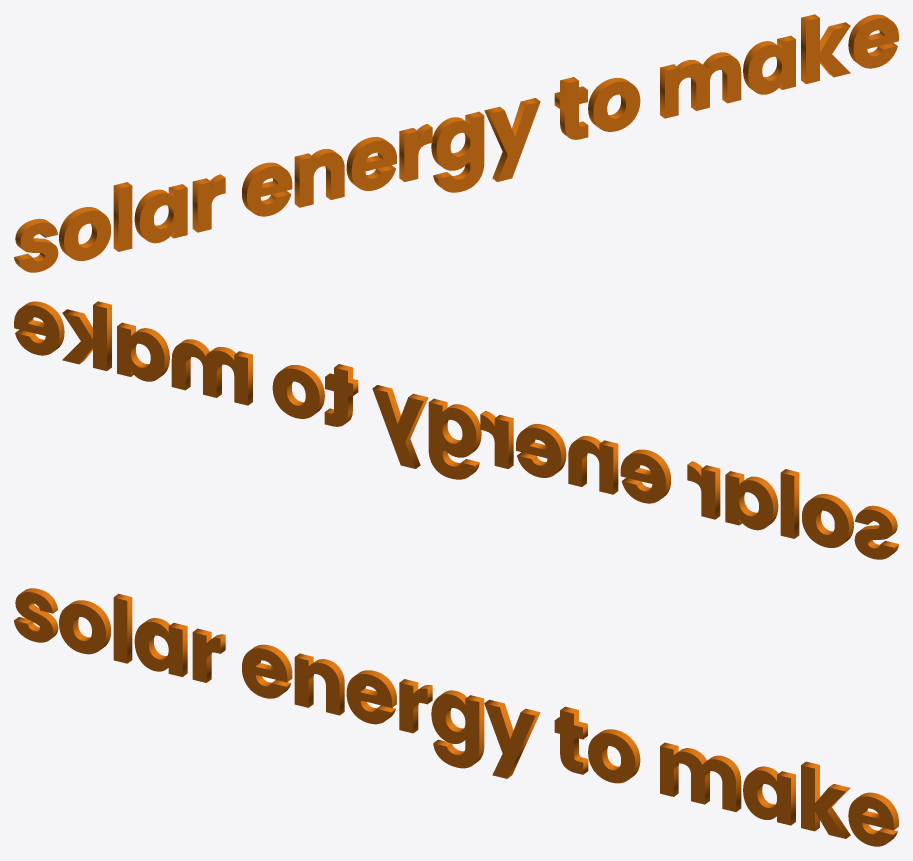
The model's file is Soru1.2.gltf.
3 views of the same model, one above another, from view 1: azimuth 30°, elevation 25°; view 2: azimuth 150°, elevation 25°; view 3: azimuth 330°, elevation 25° (orthographic).
Parts seen in each view (by area): view 1: 2.005, 2.004, 2.4; view 2: 2.005, 2.004, 2.4; view 3: 2.005, 2.004, 2.4.
Part boxes in pixels (x1,y1,x2,y2): 2.005: (554, 14, 898, 139); 2.004: (242, 98, 540, 216); 2.4: (14, 174, 225, 272); 2.005: (14, 301, 358, 426); 2.004: (372, 385, 670, 503); 2.4: (687, 461, 898, 559); 2.005: (554, 706, 898, 846); 2.004: (242, 644, 540, 778); 2.4: (14, 588, 225, 682).
Size of the model in its own units: 0.4378 by 0.041 by 0.00435.
